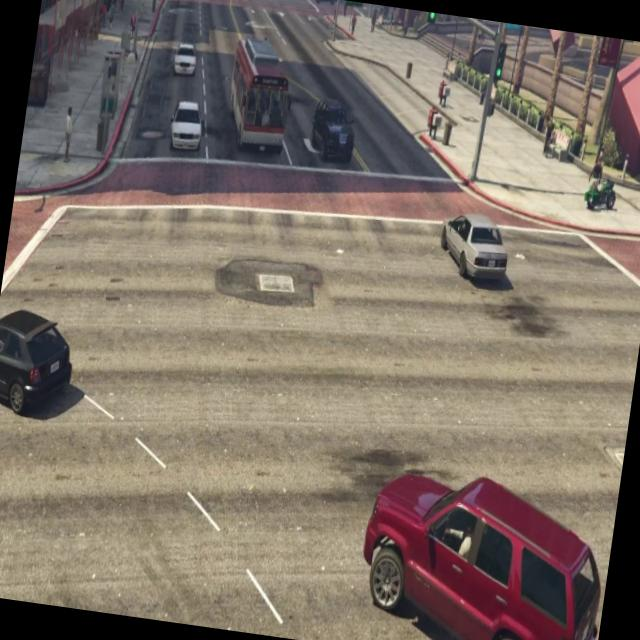Green-Signal: (488, 32, 516, 97), (422, 12, 444, 32), (342, 0, 366, 15)
